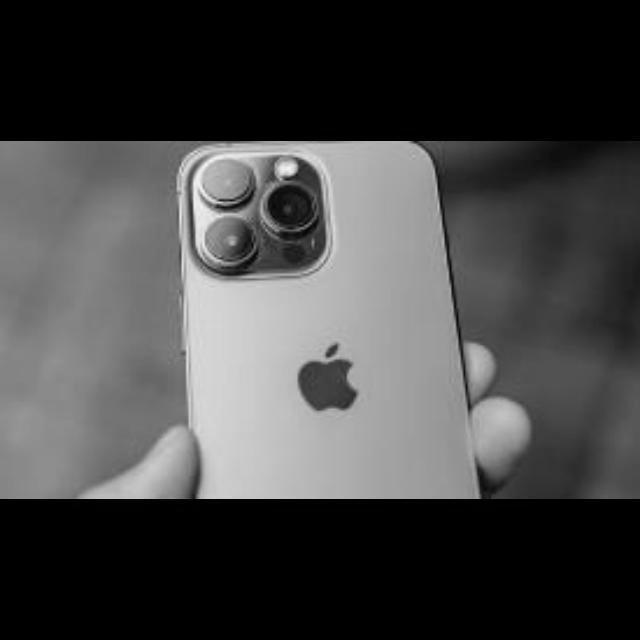fake: (171, 142, 525, 499)
